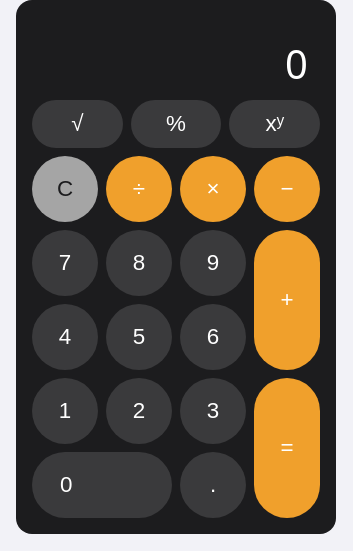
Test: Calculator › keeps a pending operation while a unary operation is applied
Click the button "5" at point(139, 337), box [106,304,172,370]
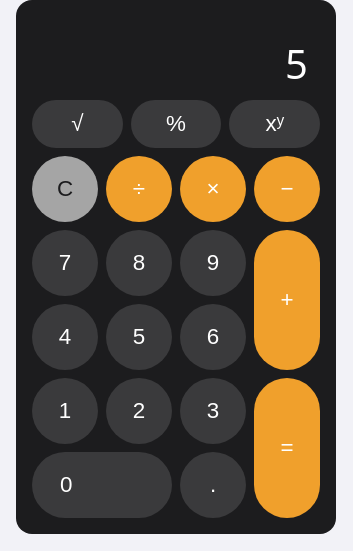
Click the button "+" at point(287, 300), box [254,230,320,370]
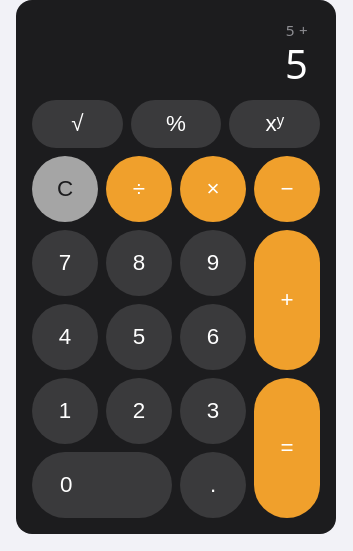
Click the button "9" at point(213, 263), box [180,230,246,296]
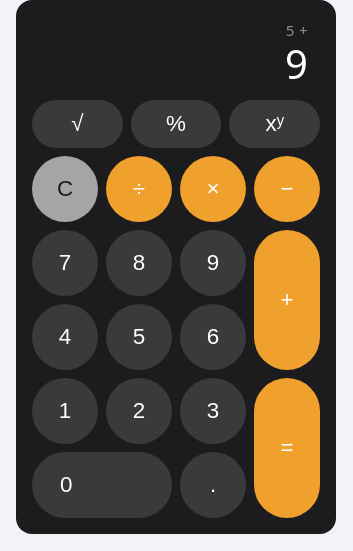
Click the button "√" at point(77, 124), box [32,100,123,148]
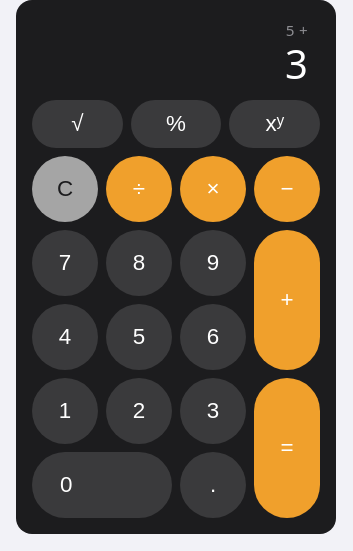
Click the button "=" at point(287, 448), box [254,378,320,518]
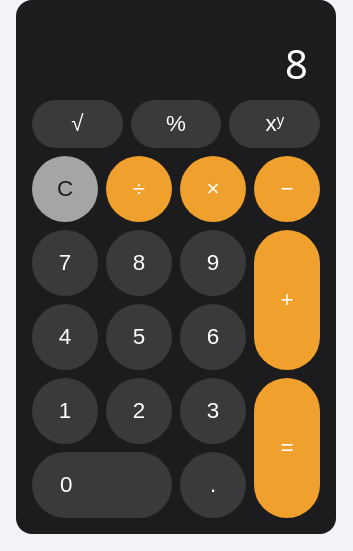
expect the text with test id "display" reads "8": met, box [285,36,308,91]
